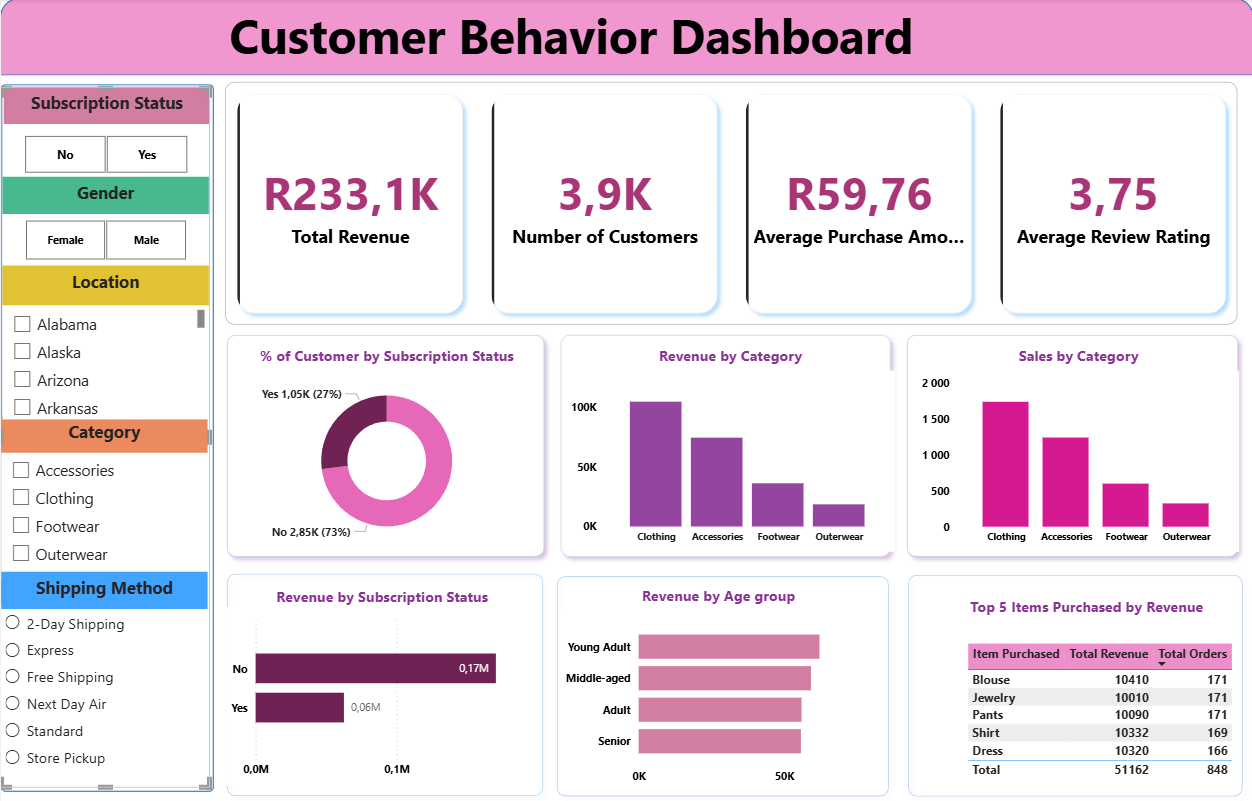

The dashboard page shown, as its layout file describes it:
{"tool":"powerbi","page":{"name":"Page 1","canvas":[1400,900],"ordinal":0},"visuals":[{"type":"cardVisual","fields":{"Data":["Sum(customer.purchase_amount)","customer.Number of Customers","customer.Average Purchase Amount","customer.Average Review Rating"]},"box":[234.5,76.8,1165.5,305.7],"z":0},{"type":"barChart","fields":{"Category":["customer.subscription_status"],"Y":["Sum(customer.purchase_amount)"]},"box":[252.1,679.9,348.2,199.6],"z":0,"group":"g1"},{"type":"shape","box":[0,0,1400,86.5],"z":1000},{"type":"shape","box":[244.3,367.3,372.8,265.9],"z":1000,"group":"g4"},{"type":"textbox","box":[252.1,651.4,348.2,33],"z":1000,"group":"g1"},{"type":"textbox","box":[53,0,1169.7,86.5],"z":2000},{"type":"shape","box":[617.1,367.1,386.6,265.9],"z":3000,"group":"g4"},{"type":"textbox","box":[1035.3,382.4,337.6,33.5],"z":3000,"group":"g7"},{"type":"textbox","box":[641.7,382.7,347.6,33.5],"z":4000,"group":"g6"},{"type":"shape","box":[1003.7,367.3,388,265.9],"z":5000,"group":"g4"},{"type":"clusteredColumnChart","fields":{"Y":["Sum(customer.purchase_amount)"],"Category":["customer.category"]},"box":[631.9,416.2,367.1,202.4],"z":5000,"group":"g6"},{"type":"clusteredColumnChart","fields":{"Y":["Count(customer.customer_id)"],"Category":["customer.category"]},"box":[1024.5,415.9,359.3,202.6],"z":6000,"group":"g7"},{"type":"donutChart","fields":{"Category":["customer.subscription_status"],"Y":["CountNonNull(customer.customer_id)"]},"box":[258.1,416.2,347.6,202.4],"z":6000,"group":"g5"},{"type":"shape","box":[1.4,96.3,237.3,790],"z":7000},{"type":"textbox","box":[258.1,382.7,347.6,33.5],"z":7000,"group":"g5"},{"type":"slicer","fields":{"Values":["customer.subscription_status"]},"box":[4.3,149.6,228.8,50.5],"z":8000,"group":"g8"},{"type":"slicer","fields":{"Values":["customer.gender"]},"box":[2.8,241.9,228.8,57.7],"z":9000,"group":"g8"},{"type":"slicer","fields":{"Values":["customer.category"]},"box":[1.1,506.3,230.3,143.8],"z":10000,"group":"g8"},{"type":"listSlicer","fields":{"Values":["customer.shipping_type"]},"box":[0,676.8,234.5,205.2],"z":11000,"group":"g8"},{"type":"textbox","box":[1.1,465.8,230.3,41.9],"z":12000,"group":"g8"},{"type":"textbox","box":[1.4,640.5,230.3,41.9],"z":13000,"group":"g8"},{"type":"textbox","box":[2.8,200.1,230.2,41.8],"z":14000,"group":"g8"},{"type":"textbox","box":[4.3,99.1,230.2,41.8],"z":15000,"group":"g8"},{"type":"shape","box":[612.4,636.4,388.7,264.2],"z":16000},{"type":"shape","box":[244.3,633.7,371.3,266.6],"z":17000},{"type":"group","id":"g1","title":"Group 1","box":[252.1,651.4,348.2,228.1],"z":18000},{"type":"group","id":"g2","title":"Group 2","box":[618.4,649.9,370.7,237.1],"z":19000},{"type":"group","id":"g3","title":"Group 3","box":[1004.4,635,396.7,265.7],"z":20000},{"type":"barChart","fields":{"Category":["customer.age_group"],"Y":["Sum(customer.purchase_amount)"]},"box":[625.2,683.1,364,204],"z":20001,"group":"g2"},{"type":"textbox","box":[618.4,649.9,368.4,33.5],"z":20006,"group":"g2"},{"type":"group","id":"g4","title":"Group 4","box":[244.3,367.1,1147.3,266.6],"z":21000},{"type":"group","id":"g5","title":"Group 5","box":[258.1,382.7,348.2,235.6],"z":22000},{"type":"tableEx","fields":{"Values":["customer.item_purchased","Sum(customer.purchase_amount)","CountNonNull(customer.purchase_amount)"]},"box":[1074.4,715.6,326.7,165.1],"z":22000,"group":"g3"},{"type":"group","id":"g6","title":"Group 6","box":[631.9,382.7,366.2,235.6],"z":22001},{"type":"group","id":"g7","title":"Group 7","box":[1024.5,382.4,358.7,235.9],"z":22002},{"type":"textbox","box":[2.8,298.6,230.3,44.7],"z":22003,"group":"g8"},{"type":"slicer","fields":{"Values":["customer.location"]},"box":[2.8,343.2,230.3,127],"z":22004,"group":"g8"},{"type":"group","id":"g8","title":"Group 8","box":[0,99.1,234.5,782.9],"z":22005},{"type":"textbox","box":[1034.5,663,355.9,31.5],"z":24000,"group":"g3"},{"type":"shape","box":[1004.4,635,391.7,265.7],"z":25000,"group":"g3"}]}

Visuals, with their boxes in screenshot pixels (x1, y1, x2, y2), scaled from the page's 1400x900 canvas onto the 1252x801 screenshot:
cardVisual - Sum(customer.purchase_amount) x customer.Number of Customers: 210:68:1251:340
barChart - customer.subscription_status x Sum(customer.purchase_amount): 225:605:537:783
shape: 0:0:1251:77
shape: 218:327:552:564
textbox: 225:580:537:609
textbox: 47:0:1093:77
shape: 552:327:898:563
textbox: 926:340:1228:370
textbox: 574:341:885:370
shape: 898:327:1245:564
clusteredColumnChart - Sum(customer.purchase_amount) x customer.category: 565:370:893:551
clusteredColumnChart - Count(customer.customer_id) x customer.category: 916:370:1238:550
donutChart - customer.subscription_status x CountNonNull(customer.customer_id): 231:370:542:551
shape: 1:86:213:789
textbox: 231:341:542:370
slicer - customer.subscription_status: 4:133:208:178
slicer - customer.gender: 3:215:207:267
slicer - customer.category: 1:451:207:579
listSlicer - customer.shipping_type: 0:602:210:785
textbox: 1:415:207:452
textbox: 1:570:207:607
textbox: 3:178:208:215
textbox: 4:88:210:125
shape: 548:566:895:800
shape: 218:564:551:800
"Group 1" group: 225:580:537:783
"Group 2" group: 553:578:885:789
"Group 3" group: 898:565:1251:800
barChart - customer.age_group x Sum(customer.purchase_amount): 559:608:885:790
textbox: 553:578:882:608
"Group 4" group: 218:327:1244:564
"Group 5" group: 231:341:542:550
tableEx - customer.item_purchased x Sum(customer.purchase_amount): 961:637:1251:784
"Group 6" group: 565:341:893:550
"Group 7" group: 916:340:1237:550
textbox: 3:266:208:306
slicer - customer.location: 3:305:208:418
"Group 8" group: 0:88:210:785
textbox: 925:590:1243:618
shape: 898:565:1249:800
